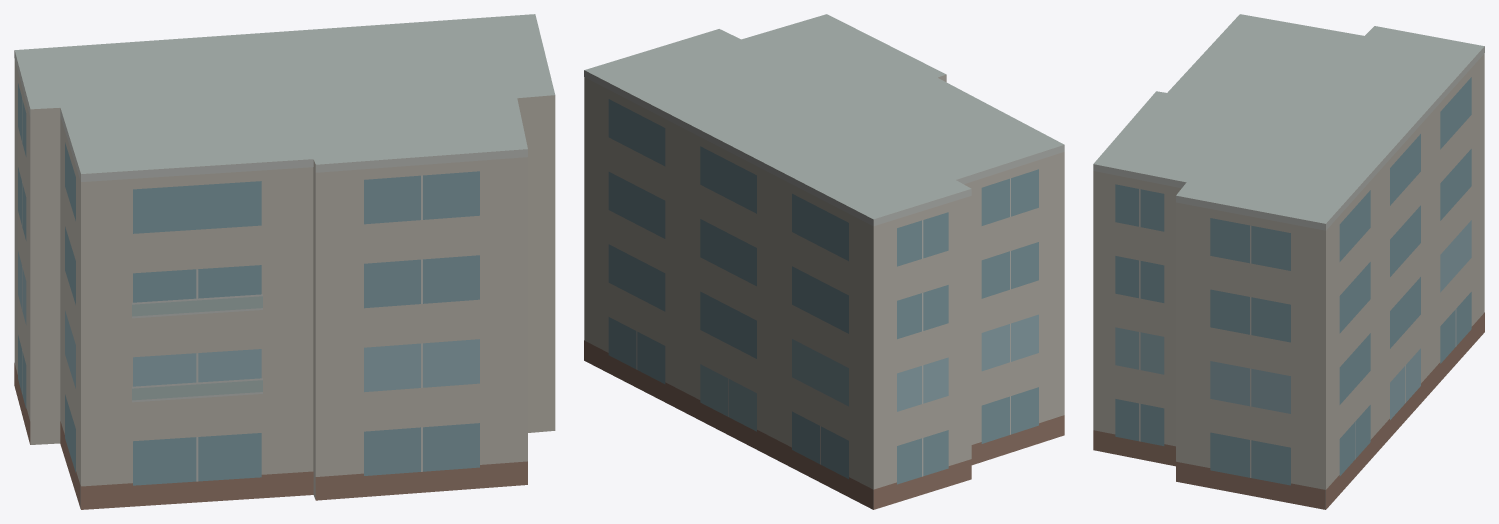
Rendered from survey-upis-32939457.glb.
The picture shows the model from 3 angles, left to right: view 1: azimuth 30°, elevation 25°; view 2: azimuth 150°, elevation 25°; view 3: azimuth 270°, elevation 25°; orthographic projection. The views are drawn at different scales.
Visible parts, largest first — view 1: survey-upis-32939457.tmp; view 2: survey-upis-32939457.tmp; view 3: survey-upis-32939457.tmp.
Boxes of the visible parts, x1=… form: survey-upis-32939457.tmp: x1=14, y1=14, x2=555, y2=509; survey-upis-32939457.tmp: x1=584, y1=14, x2=1064, y2=509; survey-upis-32939457.tmp: x1=1093, y1=14, x2=1484, y2=509.
Size of the model in its own units: 16.06 by 10.2 by 12.66.
